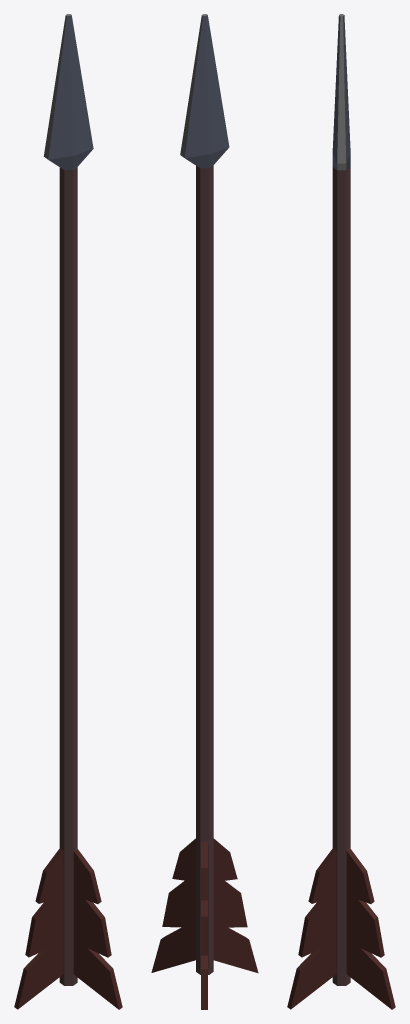
File: arrow.glb
The picture shows the model from 3 angles, left to right: view 1: azimuth 30°, elevation 25°; view 2: azimuth 210°, elevation 25°; view 3: azimuth 270°, elevation 25°; orthographic projection.
Parts seen in each view (by area): view 1: Arrow; view 2: Arrow; view 3: Arrow.
Boxes of the visible parts, x1=… form: Arrow: x1=14, y1=14, x2=122, y2=1009; Arrow: x1=151, y1=14, x2=258, y2=1009; Arrow: x1=287, y1=14, x2=395, y2=1009.
Bounding box in the file's own units: 0.0597 × 0.685 × 0.0687.
